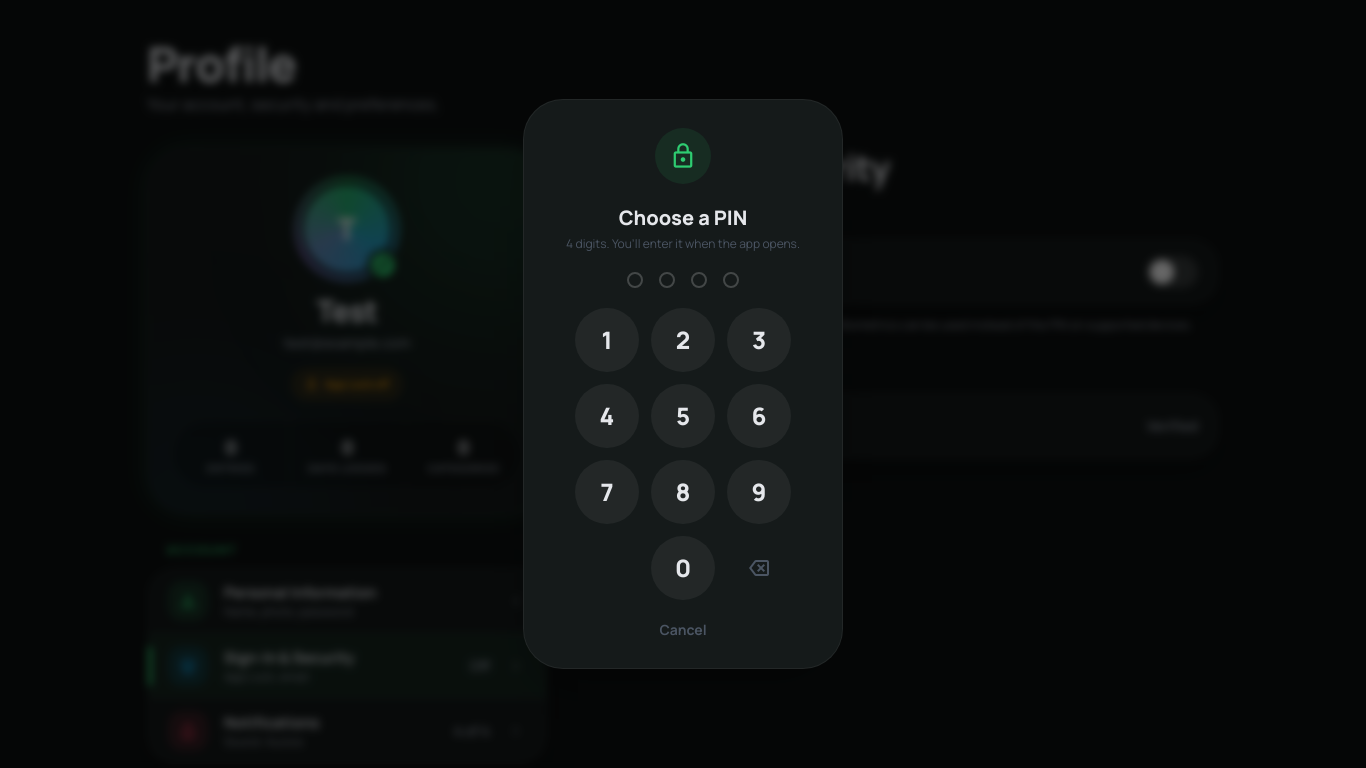
Test: App Lock › turns on after entering the same PIN twice
This screenshot has width=1366, height=768.
Earlier steps of the test are not shown.
Later steps or results of the test are not shown.
Click the button "1". click: [607, 340]
box: x1=575 y1=308 x2=639 y2=372
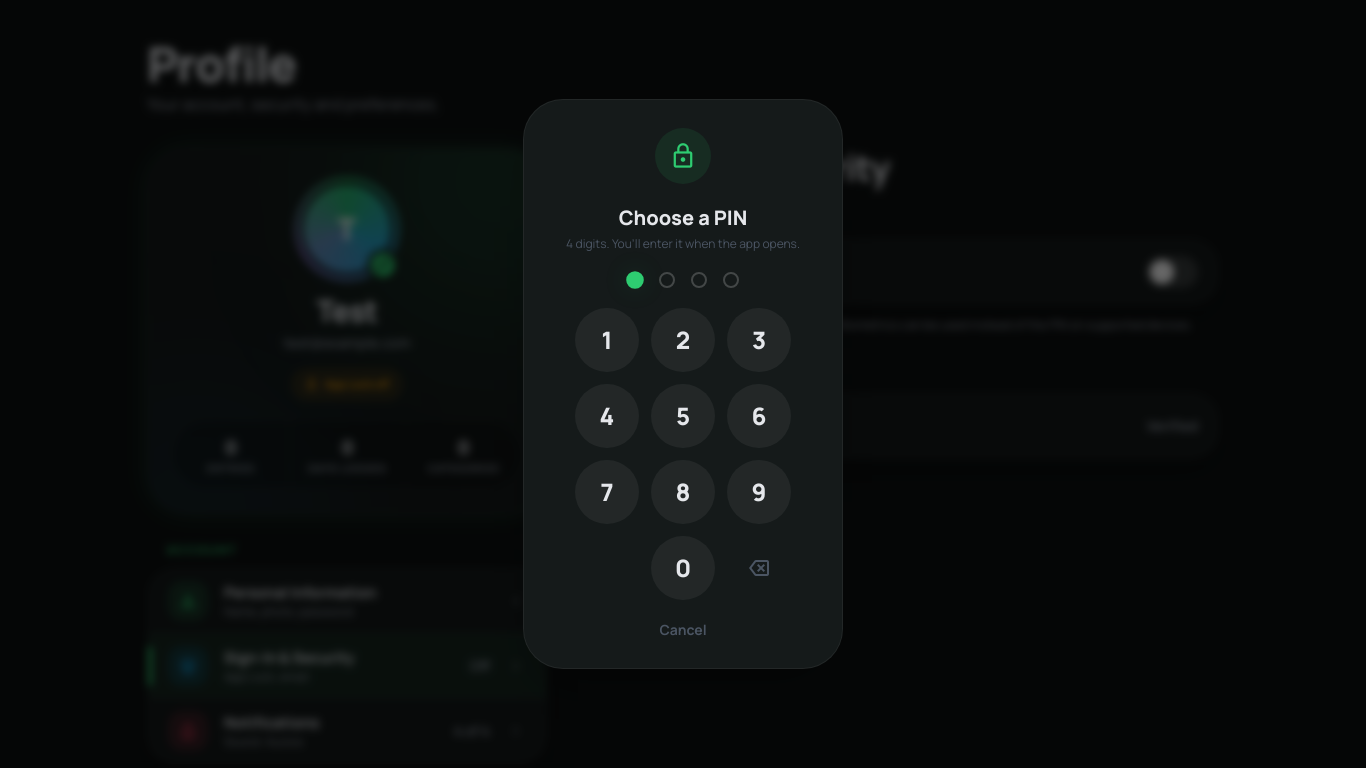
Click the button "2". click: [683, 340]
box: x1=651 y1=308 x2=715 y2=372
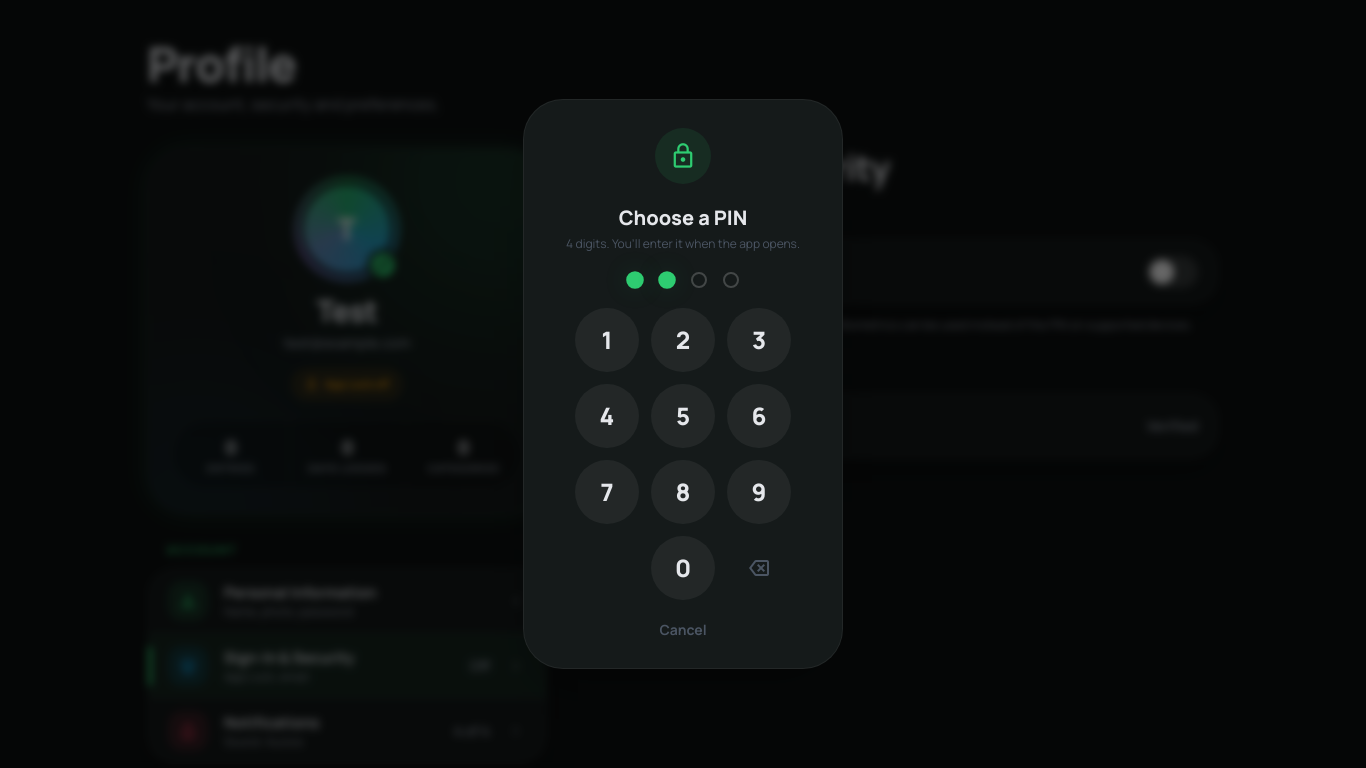
Click the button "3". click: [759, 340]
box: x1=727 y1=308 x2=791 y2=372
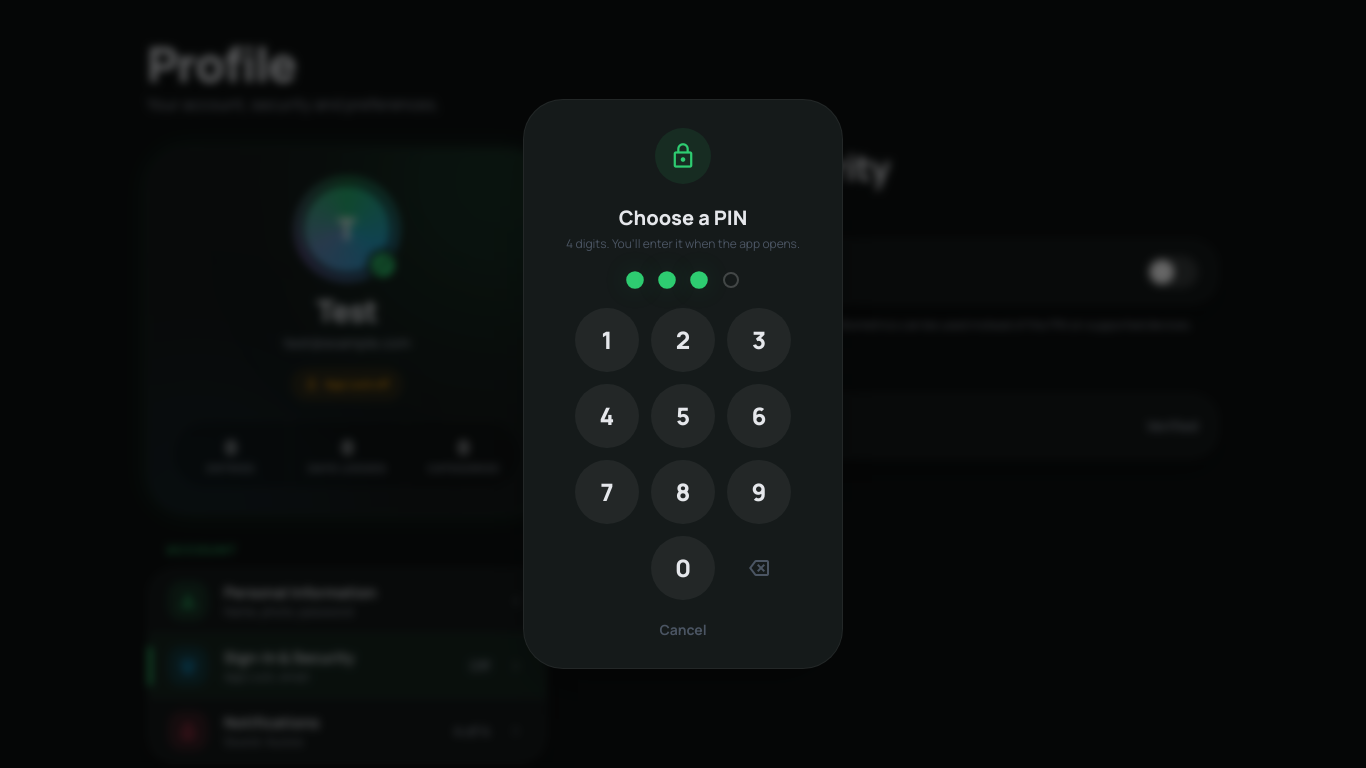
Click the button "4". click: [607, 416]
box: x1=575 y1=384 x2=639 y2=448
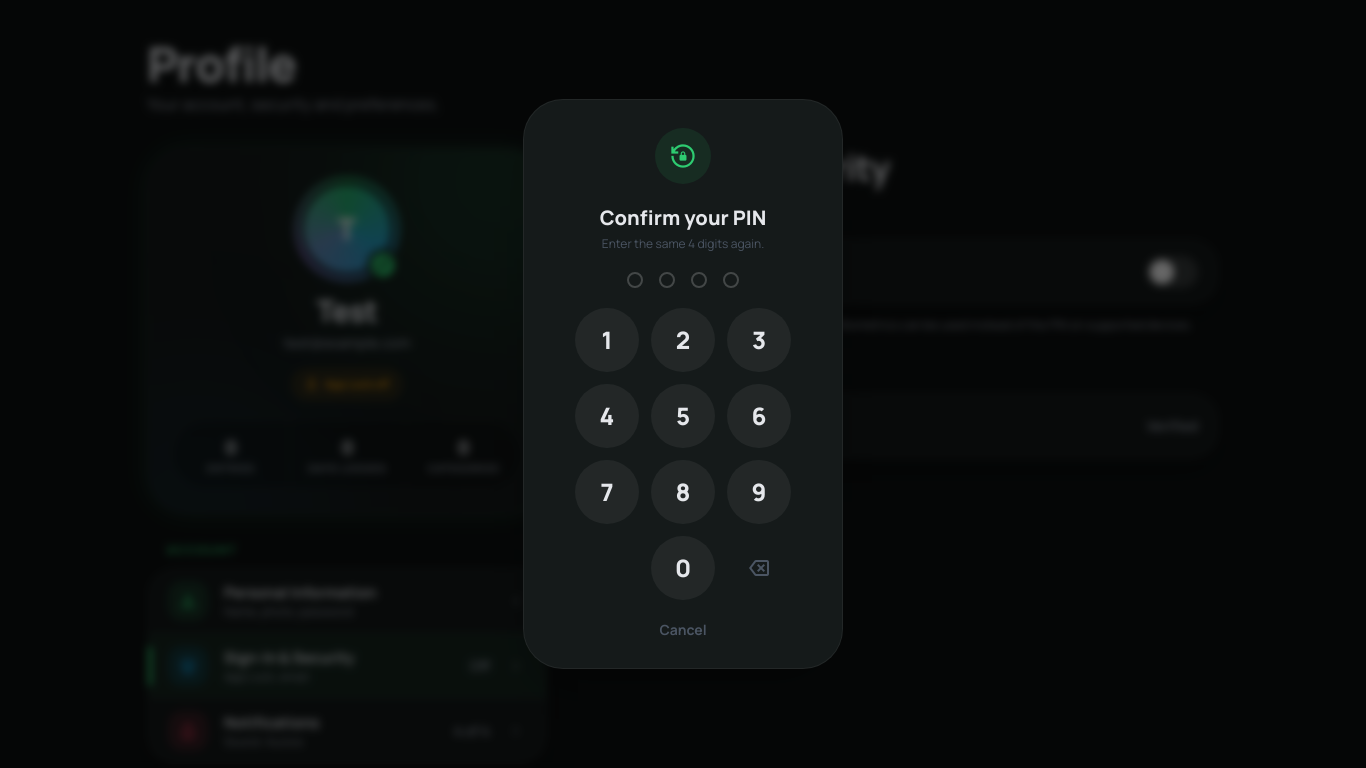
Result: the heading "Confirm your PIN" is shown at x1=600 y1=204 x2=766 y2=232
